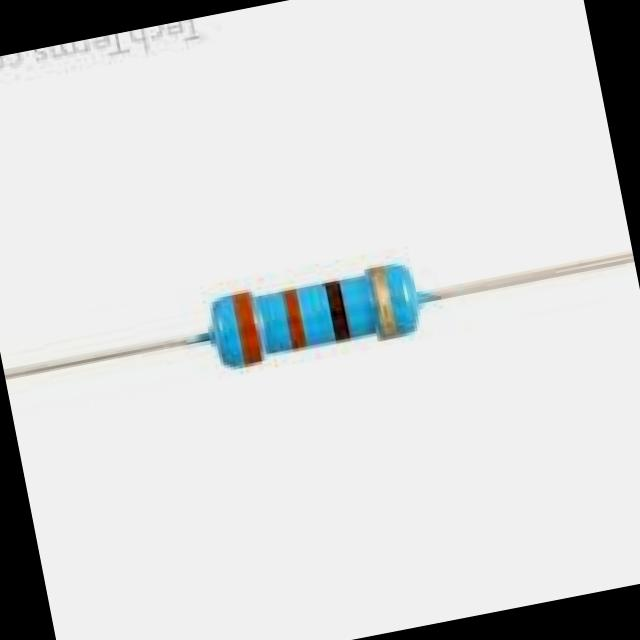Resistor: (209, 266, 429, 369)
black: (319, 275, 349, 342)
gold: (370, 255, 396, 339)
orange: (230, 288, 260, 363), (281, 280, 306, 353)
